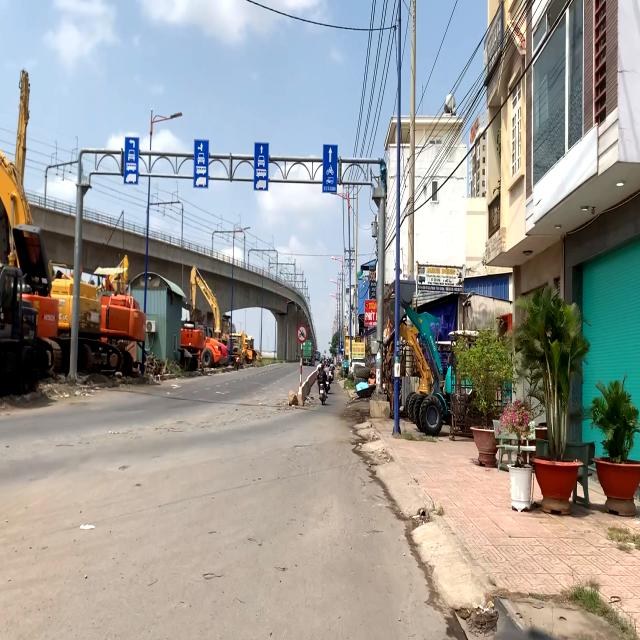P.104: (296, 323, 308, 344)
